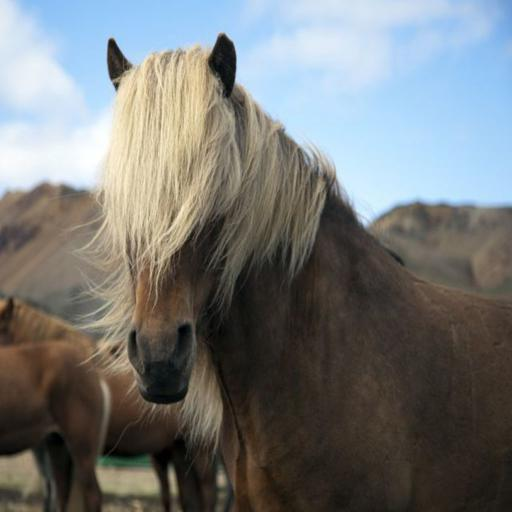horse: (54, 34, 512, 512), (0, 291, 220, 511), (0, 344, 111, 511)
